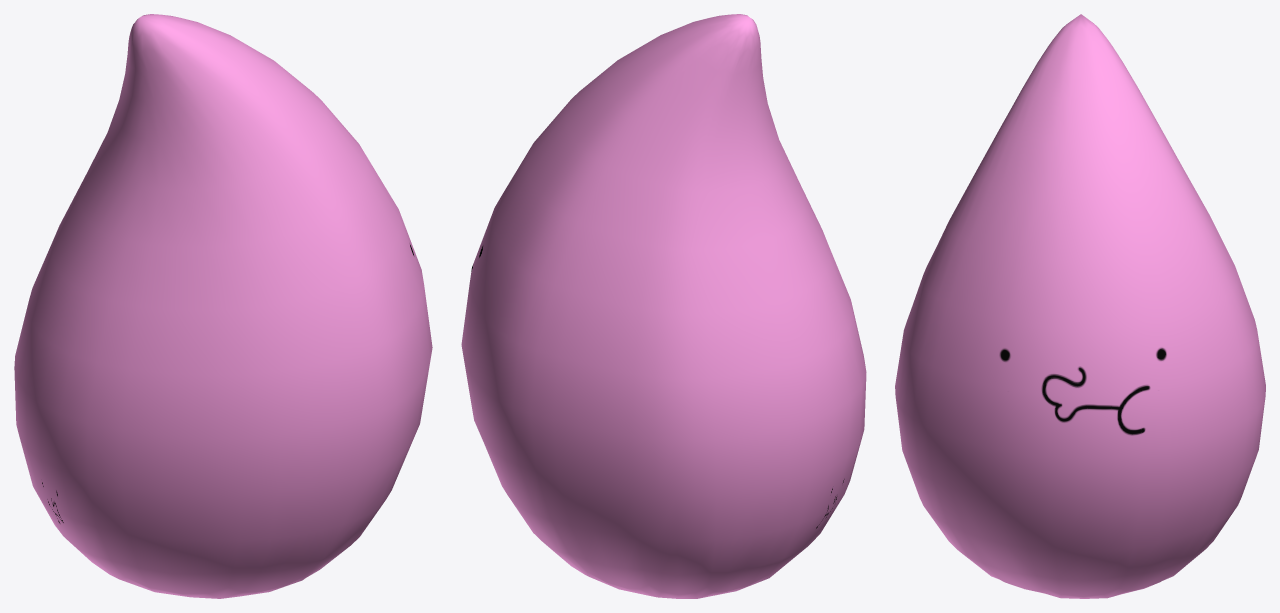
Rendered from Fragola.fbx.
The picture shows the model from 3 angles, left to right: view 1: azimuth 30°, elevation 25°; view 2: azimuth 150°, elevation 25°; view 3: azimuth 270°, elevation 25°; orthographic projection. The views are drawn at different scales.
Parts seen in each view (by area): view 1: Fragola1; view 2: Fragola1; view 3: Fragola1.
Part boxes in pixels (x1,y1,x2,y2): Fragola1: (14,14,432,598); Fragola1: (461,14,866,598); Fragola1: (895,14,1265,598).
Size of the model in its own units: 2.2 by 3.39 by 2.1.
